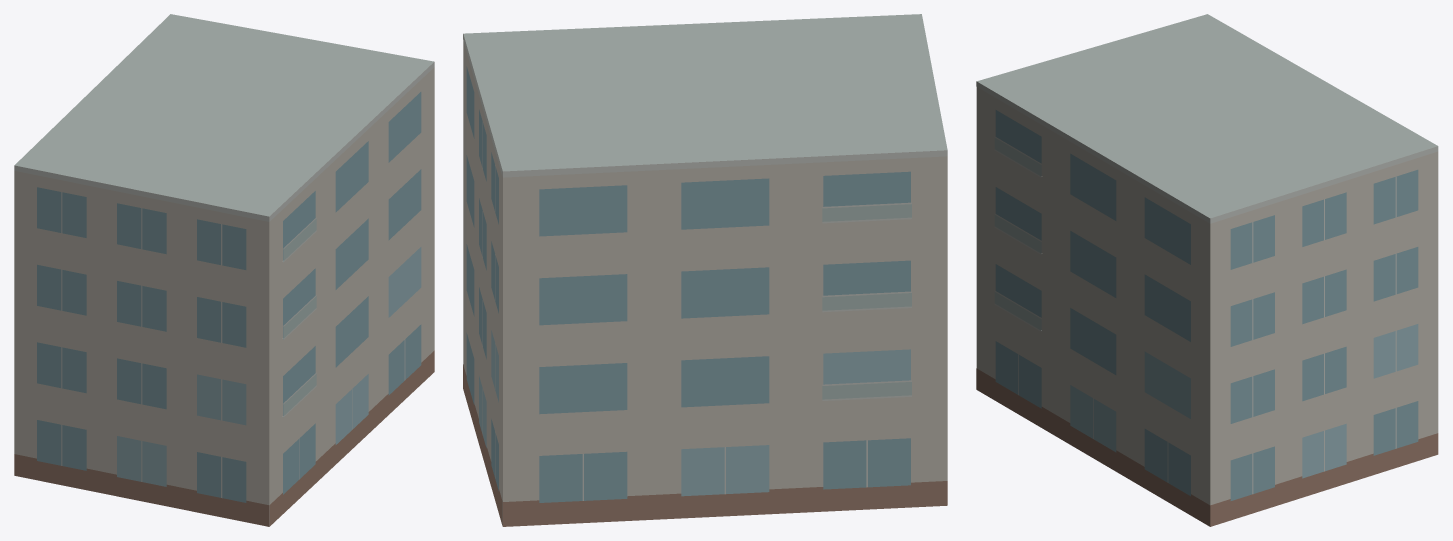
The model's file is survey-upis-32909768.glb.
The picture shows the model from 3 angles, left to right: view 1: azimuth 30°, elevation 25°; view 2: azimuth 150°, elevation 25°; view 3: azimuth 270°, elevation 25°; orthographic projection. The views are drawn at different scales.
Parts seen in each view (by area): view 1: survey-upis-32909768.tmp; view 2: survey-upis-32909768.tmp; view 3: survey-upis-32909768.tmp.
Part boxes in pixels (x1=…): survey-upis-32909768.tmp: x1=14, y1=14, x2=434, y2=526; survey-upis-32909768.tmp: x1=463, y1=14, x2=947, y2=526; survey-upis-32909768.tmp: x1=976, y1=14, x2=1438, y2=526.
Bounding box in the file's own units: 20.16 × 14.18 × 19.24.
